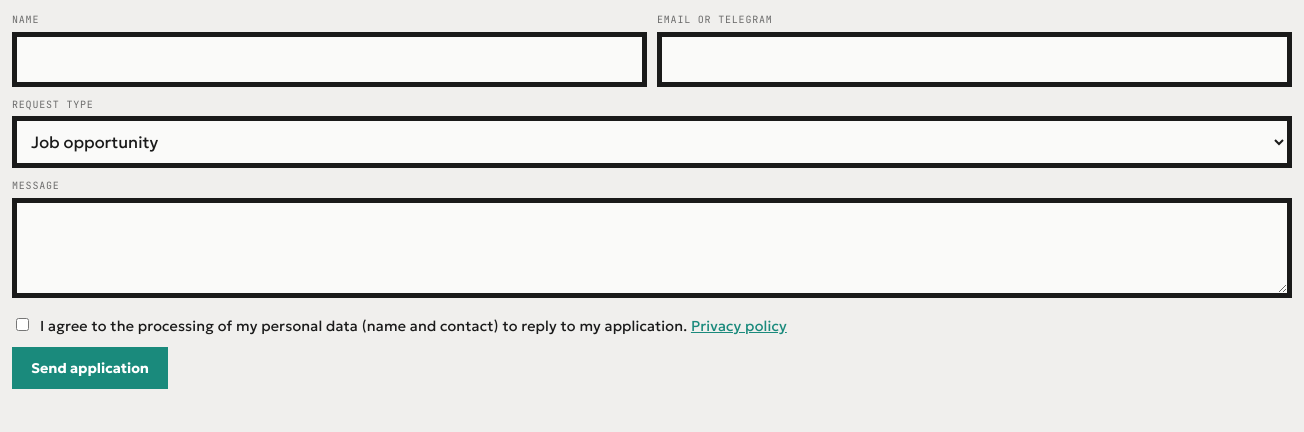
ApplicationForm › shows network error when fetch fails
The width and height of the screenshot is (1304, 432).
Type "Ivan Petrov" into the field labelled "Name" at (330, 59), box [12,32,647,87]
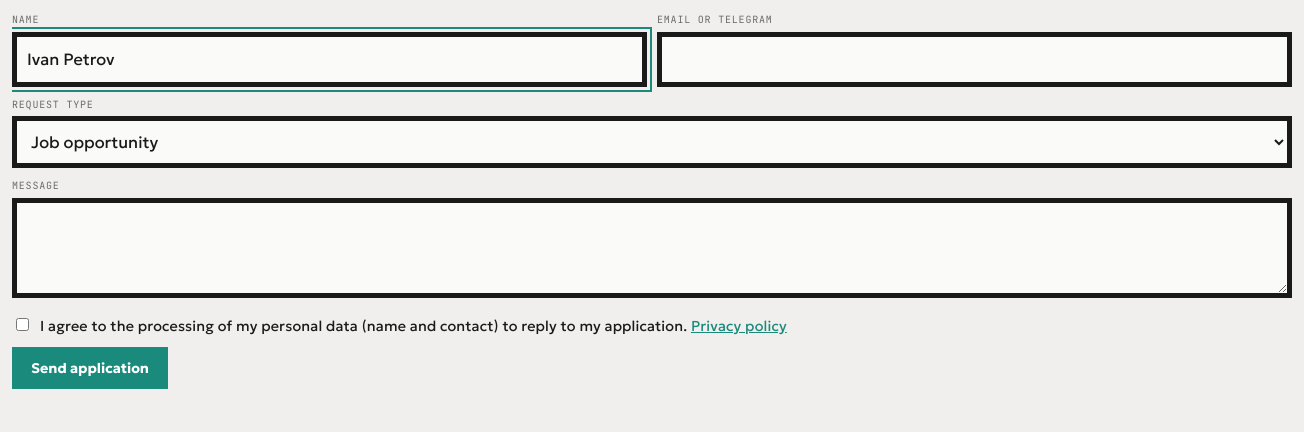
Type "@ivan" into the field labelled "Email or Telegram" at (974, 59), box [657,32,1292,87]
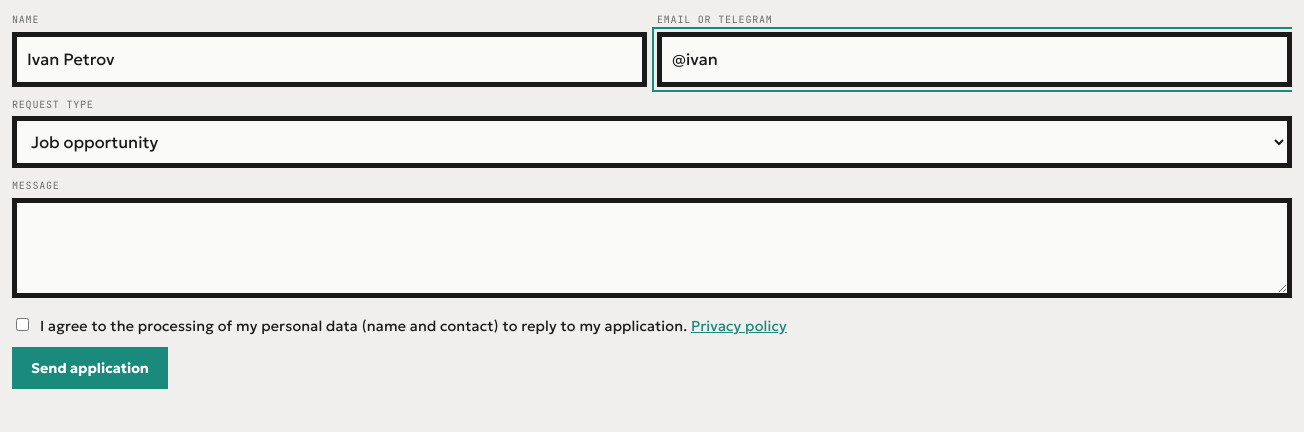
Type "I would like to discuss a backend role with you." into the text box labelled "Message" at (652, 248), box [12,198,1292,298]
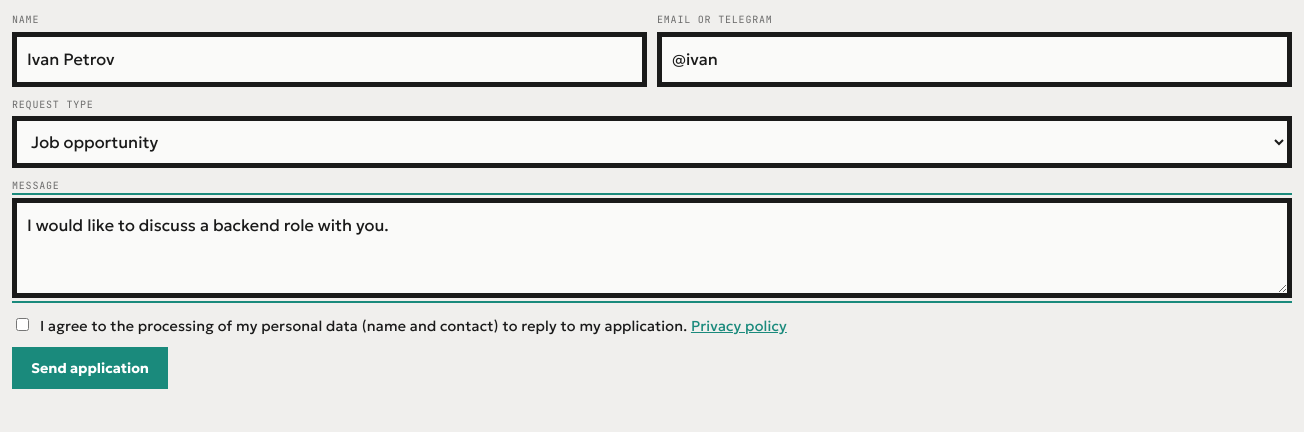
Click the checkbox at (22, 325), box [16,318,29,331]
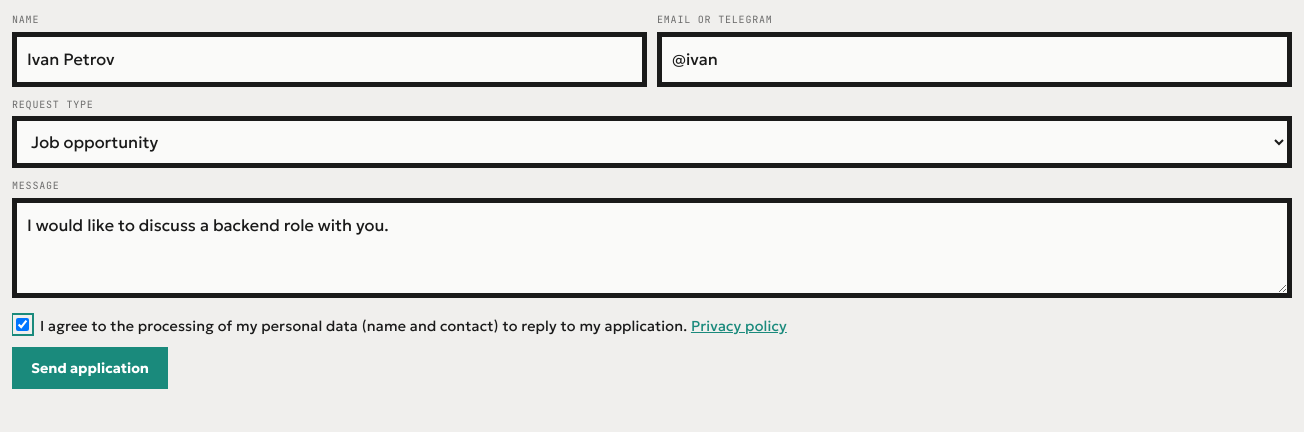
Click the button "Send application" at (90, 368), box [12,347,168,389]
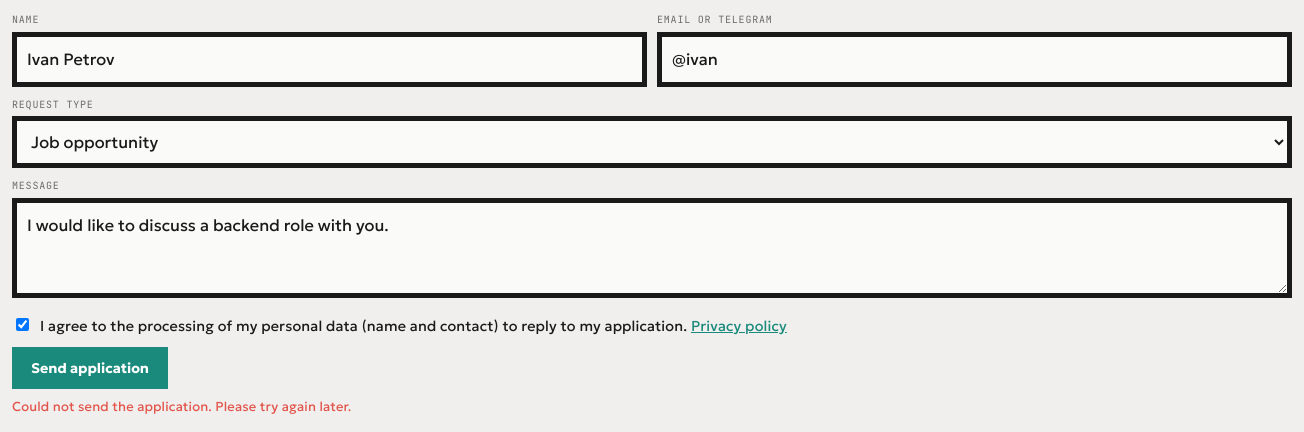
Expected: the message reads "Could not send the application. Please try again later.", [12,398,352,415]
